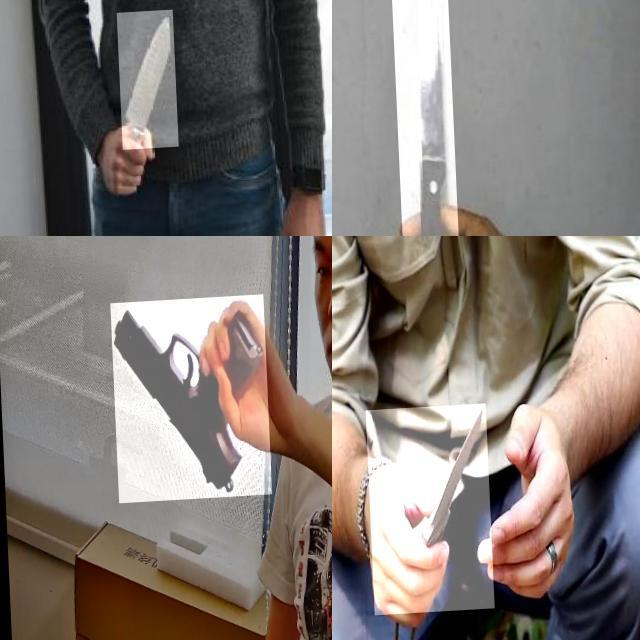-: (363, 408, 490, 619), (386, 0, 459, 236), (114, 13, 174, 154)
gun-knife-thesis - v11 Yolov5 augmented: (109, 298, 268, 504)
